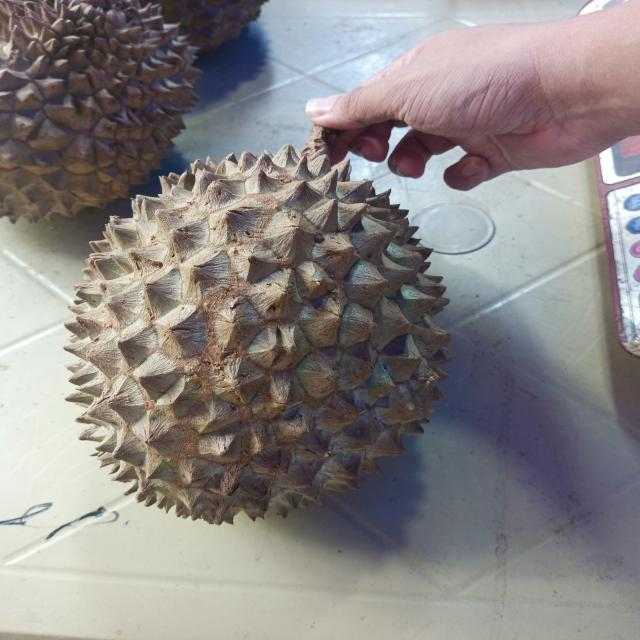mature: (65, 145, 450, 524), (0, 0, 200, 220)
